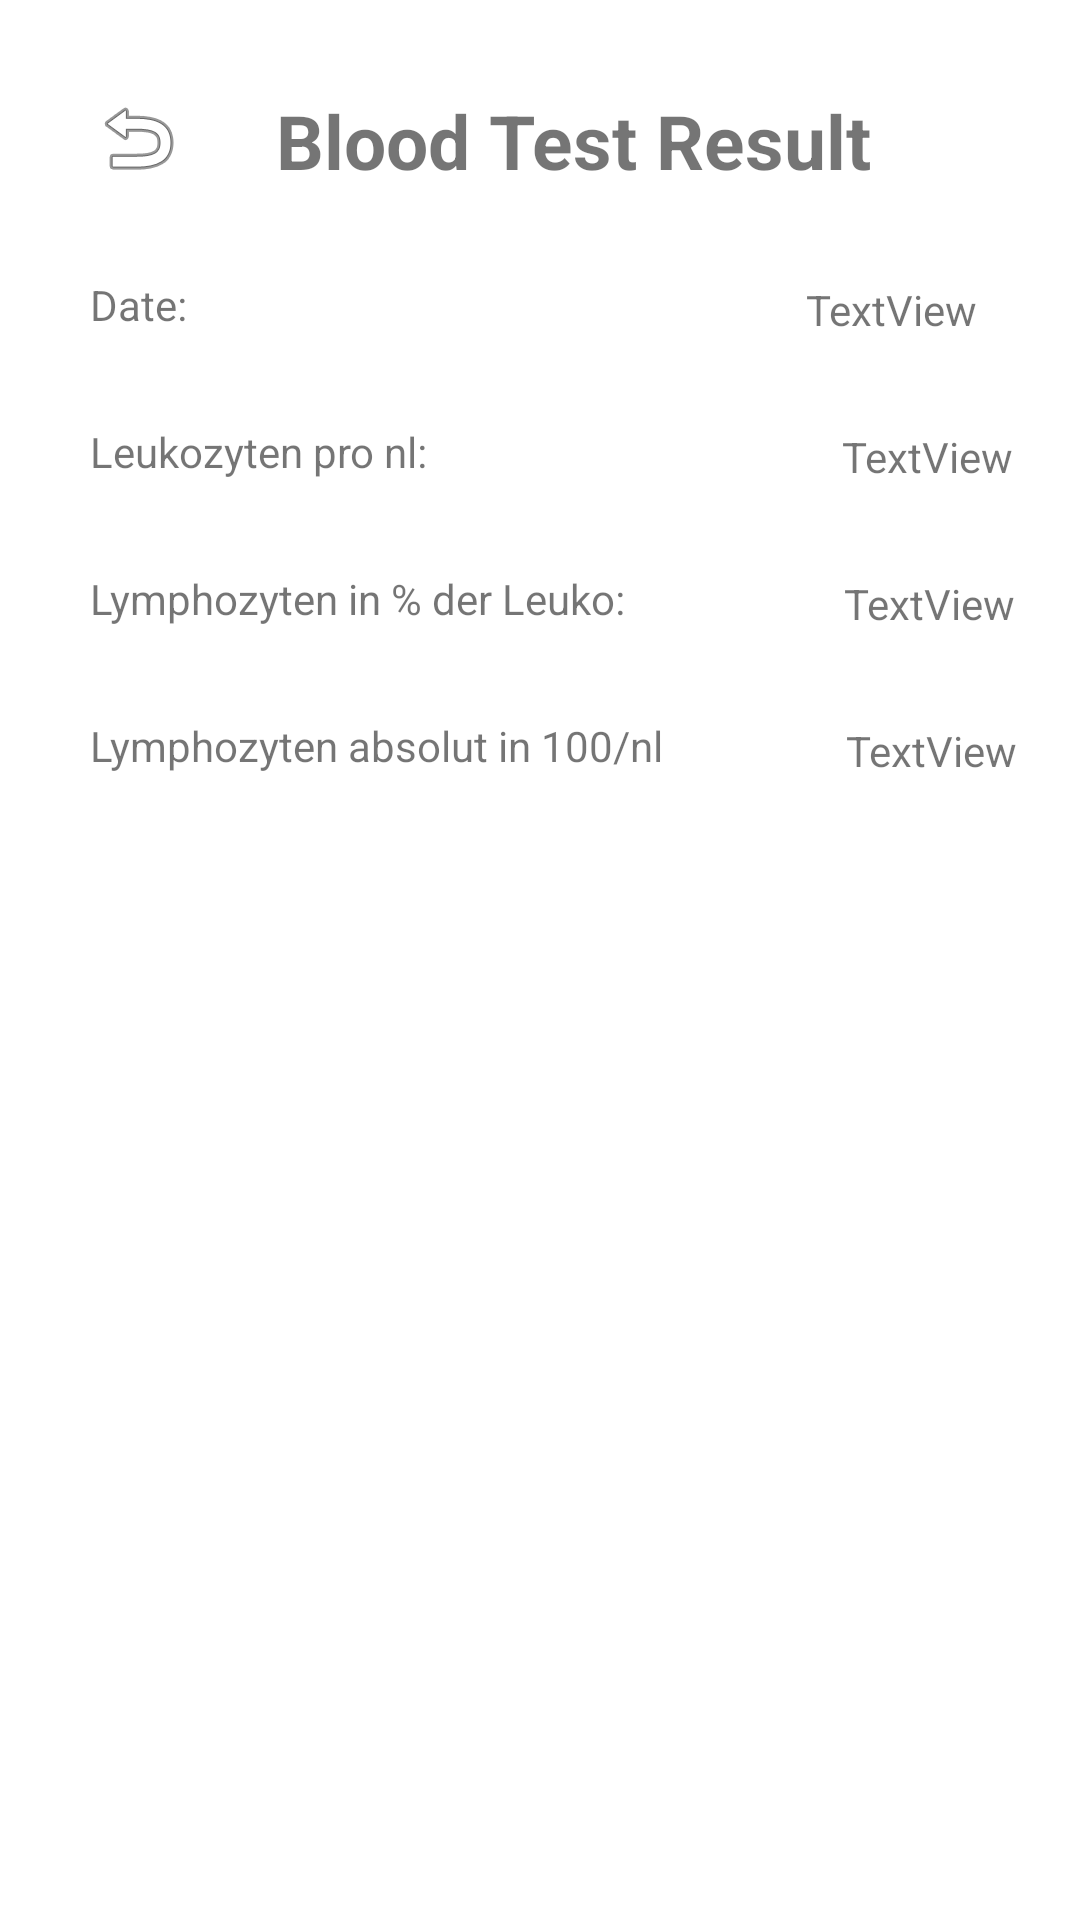

Locate icon controls on the screen. Image size 1080*1920, boxes as (x1, y1, x2, y2).
revert: (105, 107, 174, 170)
